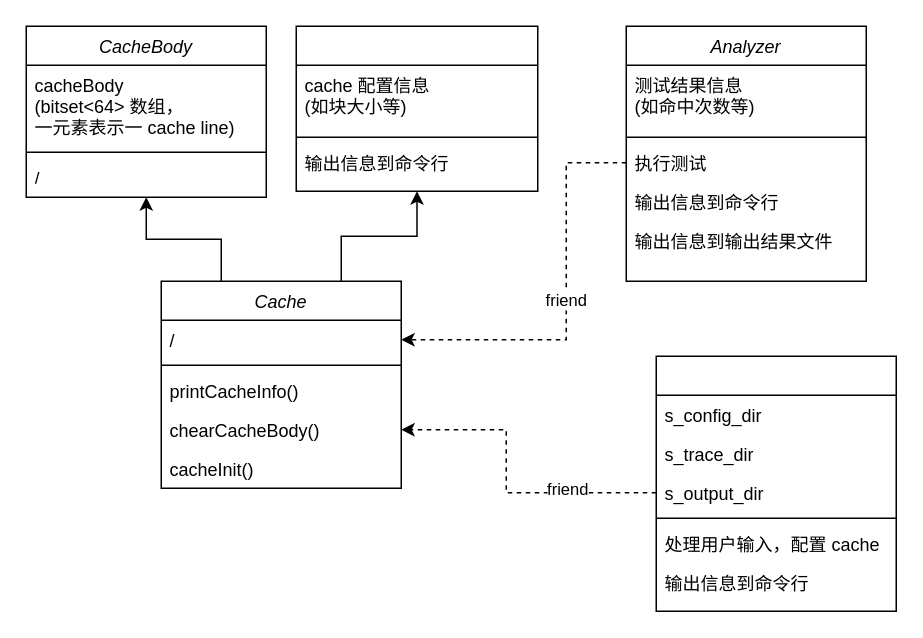
Some shapes in this 923 by 638 pixel diagram are drawn without their labels. The box of each missing label's shape, as (x1, y1, x2, y2) in pixels:
CacheProperties: (295, 25, 538, 191)
InputUtilities: (655, 355, 896, 611)
